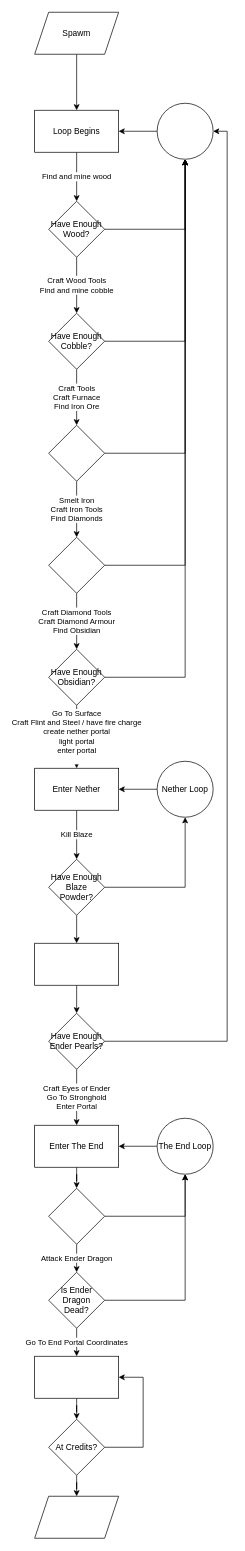
The diagram is 245 pixels wide and 1551 high, and some of its shapes have lost their labels. Each missing label, with the centre of its shape:
"Are All End Crystals Destroyed?" belongs at (x=76, y=1216).
"Enter Overworld" belongs at (x=76, y=964).
"Have Enough Diamonds?" belongs at (x=76, y=565).
"Have Enough Iron Ore?" belongs at (x=76, y=453).
"Overworld Loop" belongs at (x=184, y=131).
"THE END" belongs at (x=76, y=1517).
"Wait at end portal cordinates" belongs at (x=76, y=1377).
